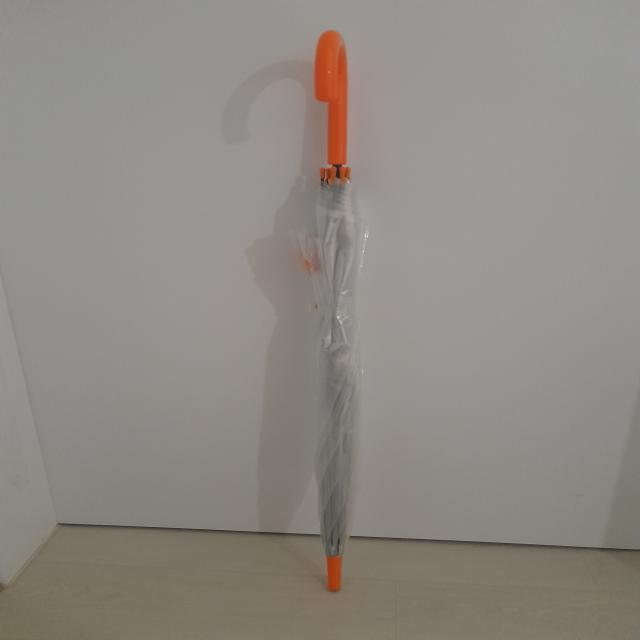umbrella: (300, 35, 374, 595)
